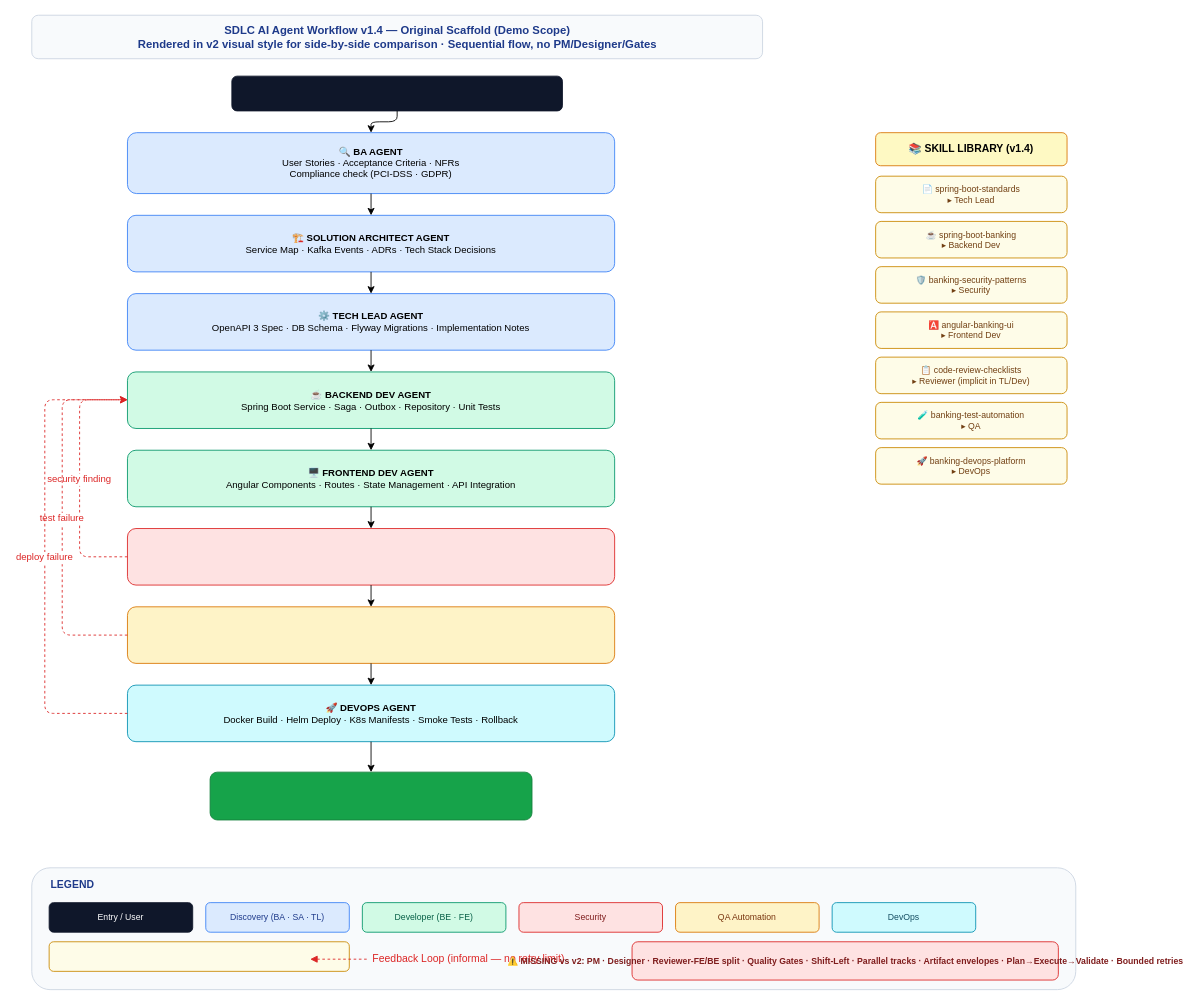
This 1198x1005 diagram has some shape labels left out. Each missing label, with the box of its shape:
Skill (yellow box, right column): (48, 941, 349, 971)
✅ DELIVERY COMPLETE Deployed · Verified: (209, 771, 532, 820)
👤 USER REQUIREMENT: (231, 75, 562, 111)
🔒 SECURITY AGENT OWASP Top 10 · SAST/SCA · STRIDE · PCI-DSS · Secrets Scan: (127, 528, 615, 585)
🧪 QA AGENT Unit · Integration · Contract · E2E · Performance Tests: (127, 606, 615, 663)
